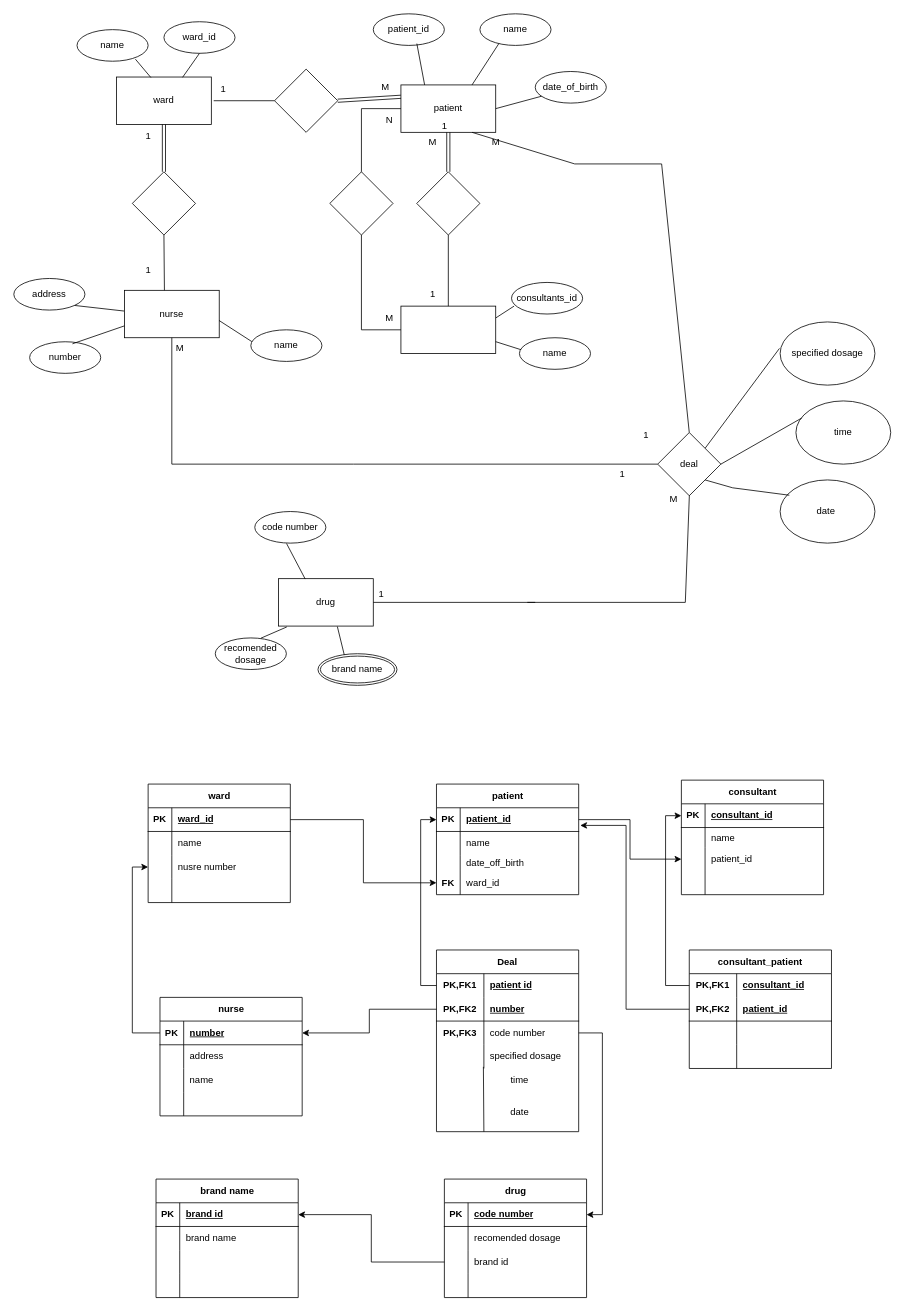
This 905x1311 diagram has some shape labels left out. The shapes that lost their labels are listed below. From the top down, each one's centre as x and y in pixels, then its label:
At point (306, 100): "host".
At point (164, 203): "supervision".
At point (361, 203): "examined by".
At point (448, 203): "assigned to".
At point (448, 329): "consultants".
